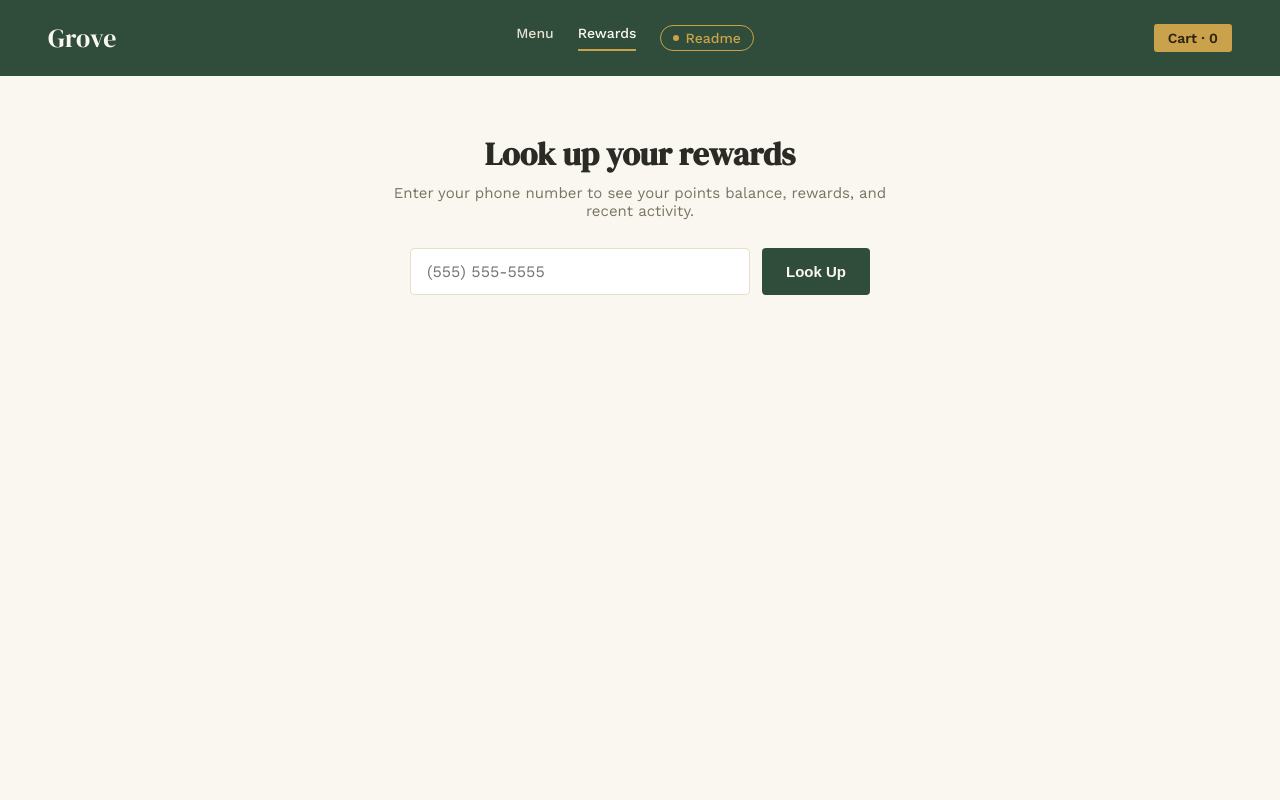
Test: LoyaltyView › renders the reward list read-only, with no radio selector
Step 1. Type "+15551234567" into the field with placeholder "(555) 555-5555" → (580, 272), box [410,248,750,295]
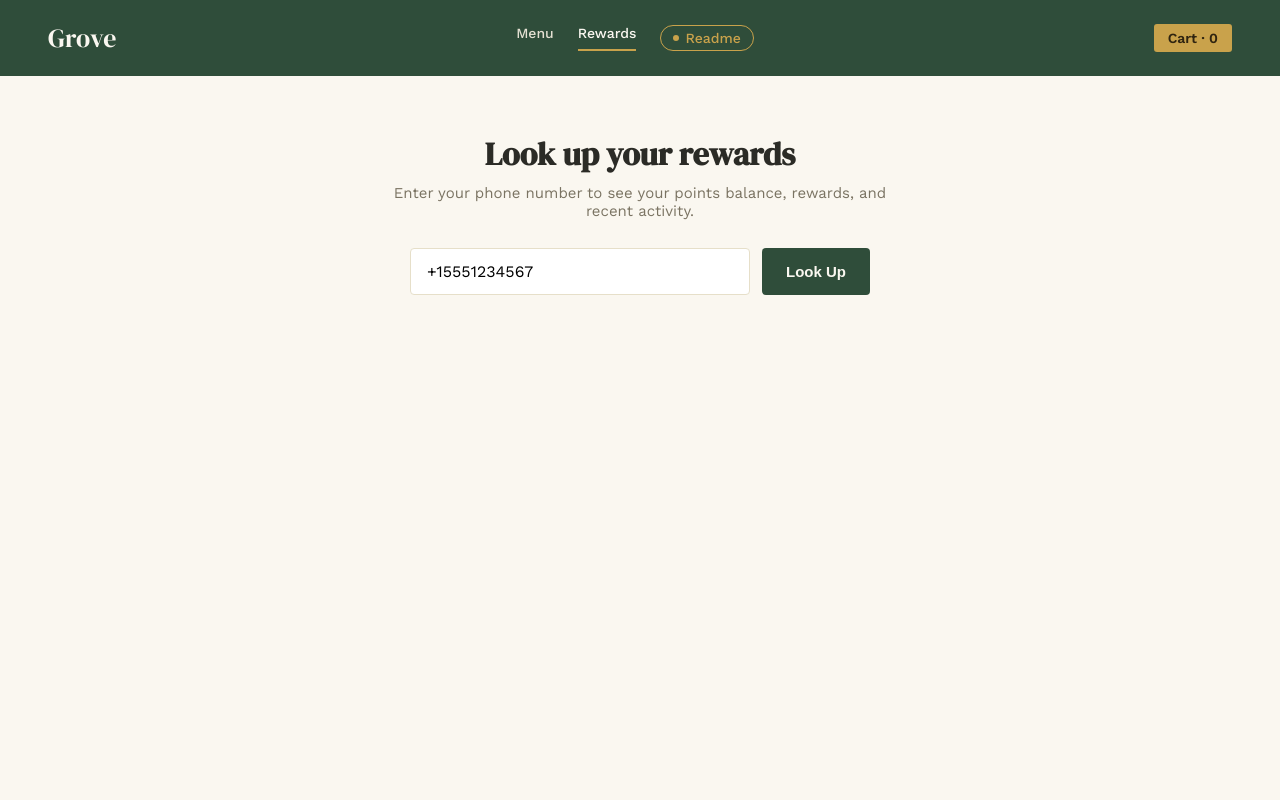
Step 2. Click the button with class "lookup-button" → (816, 272), box [762,248,870,295]
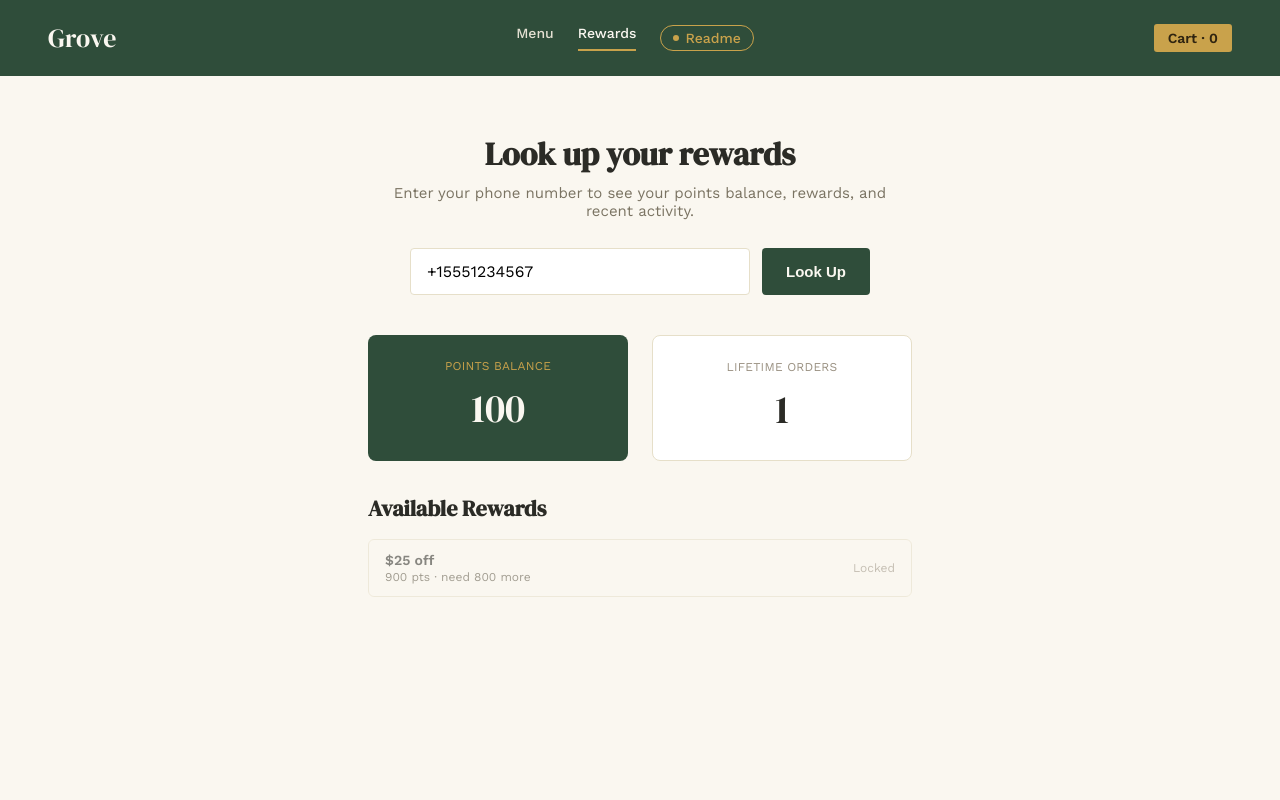
Expected: the text "need 800 more" is shown, [434,570,531,584]
Expected: the text "Locked" is shown, [853,561,895,575]
